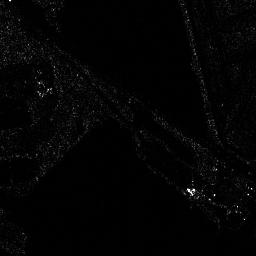ship: (181, 184, 246, 221)
